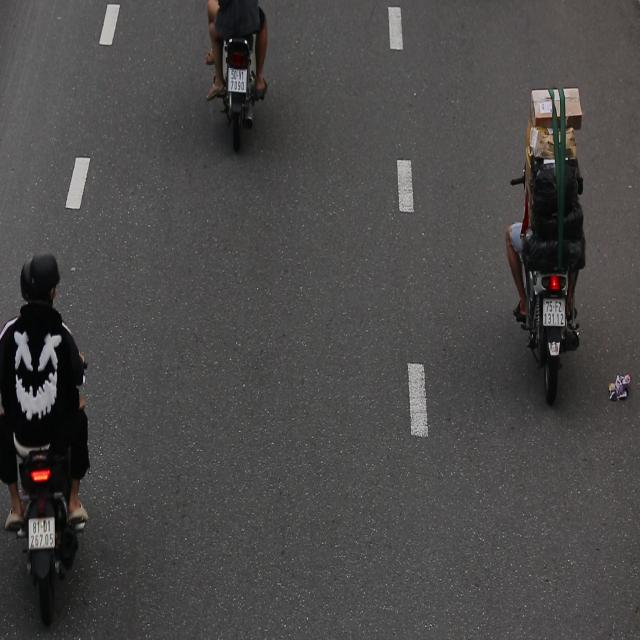motorbike: (0, 239, 95, 635)
